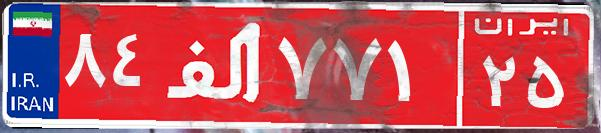1: (385, 28, 445, 110)
2: (475, 38, 525, 113)
4: (110, 28, 158, 105)
5: (525, 38, 570, 115)
7: (273, 28, 330, 110), (330, 28, 385, 110)
8: (57, 26, 110, 107)
الف: (158, 15, 273, 115)
